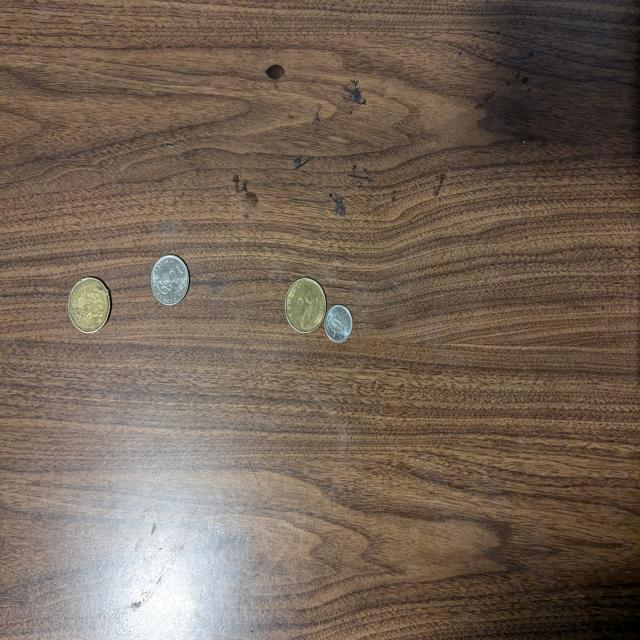dime: (325, 304, 352, 345)
loonie: (67, 279, 112, 334), (285, 278, 327, 334)
quarter: (151, 254, 191, 307)
